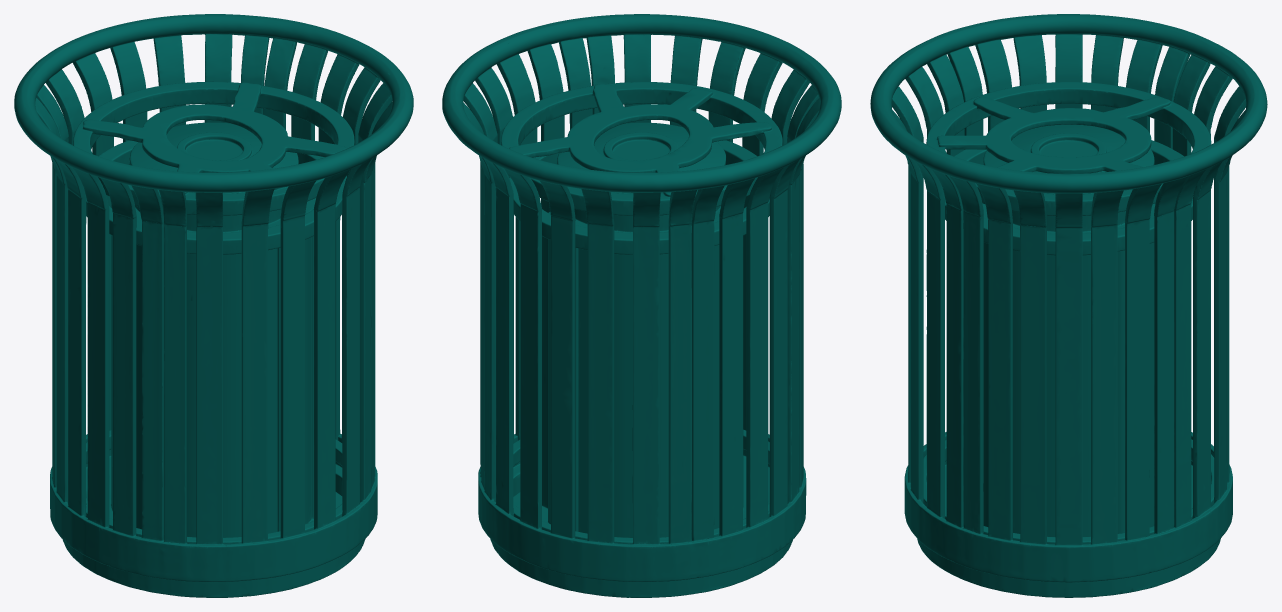
3 views of the same model, side by side, from view 1: azimuth 30°, elevation 25°; view 2: azimuth 150°, elevation 25°; view 3: azimuth 270°, elevation 25° (orthographic).
Visible parts, largest first — view 1: Object_4; view 2: Object_4; view 3: Object_4.
Part boxes in pixels (x1,y1,x2,y2): Object_4: (14,14,413,597); Object_4: (442,14,841,597); Object_4: (870,14,1267,597).
Bounding box in the file's own units: 0.7723 × 0.9373 × 0.7678.
